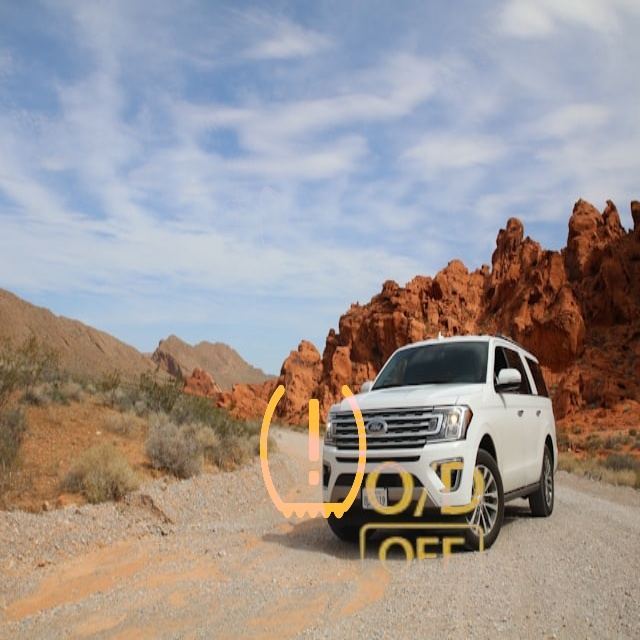symbol: (204, 337, 422, 555), (321, 425, 524, 628), (190, 149, 327, 286)
